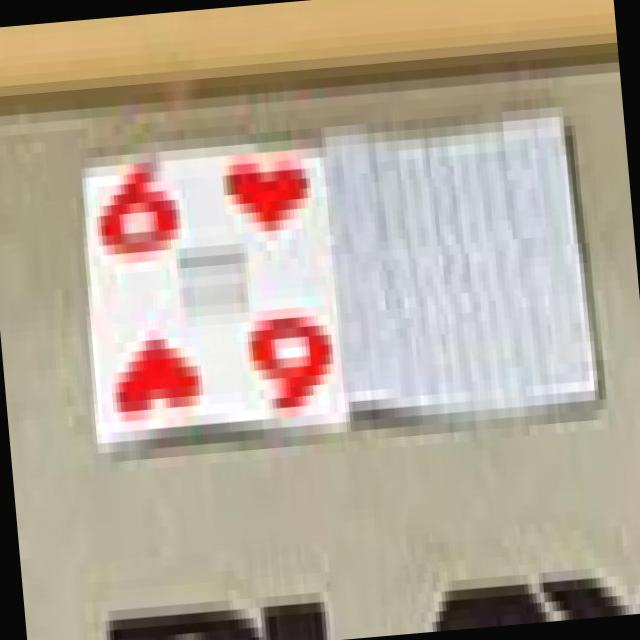Card-6: (84, 152, 345, 450)
